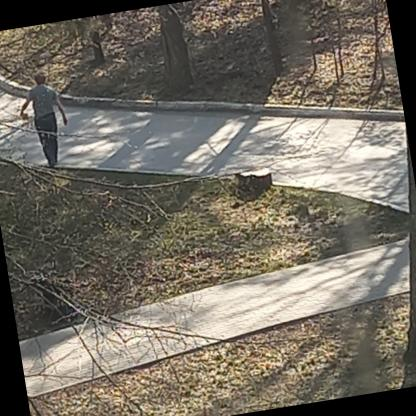Human Body: (7, 60, 78, 174)
